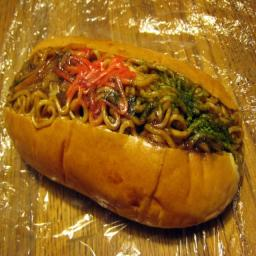hotdog: (3, 38, 256, 229)
